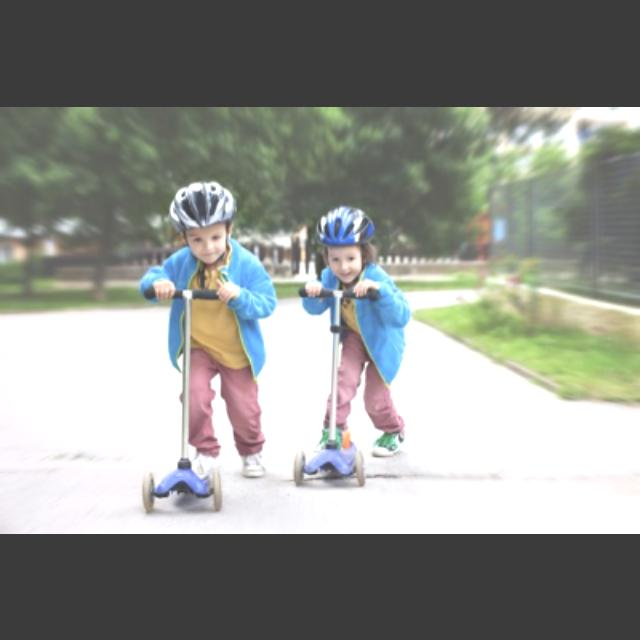With Helmet: (158, 178, 242, 262), (308, 206, 384, 280)
